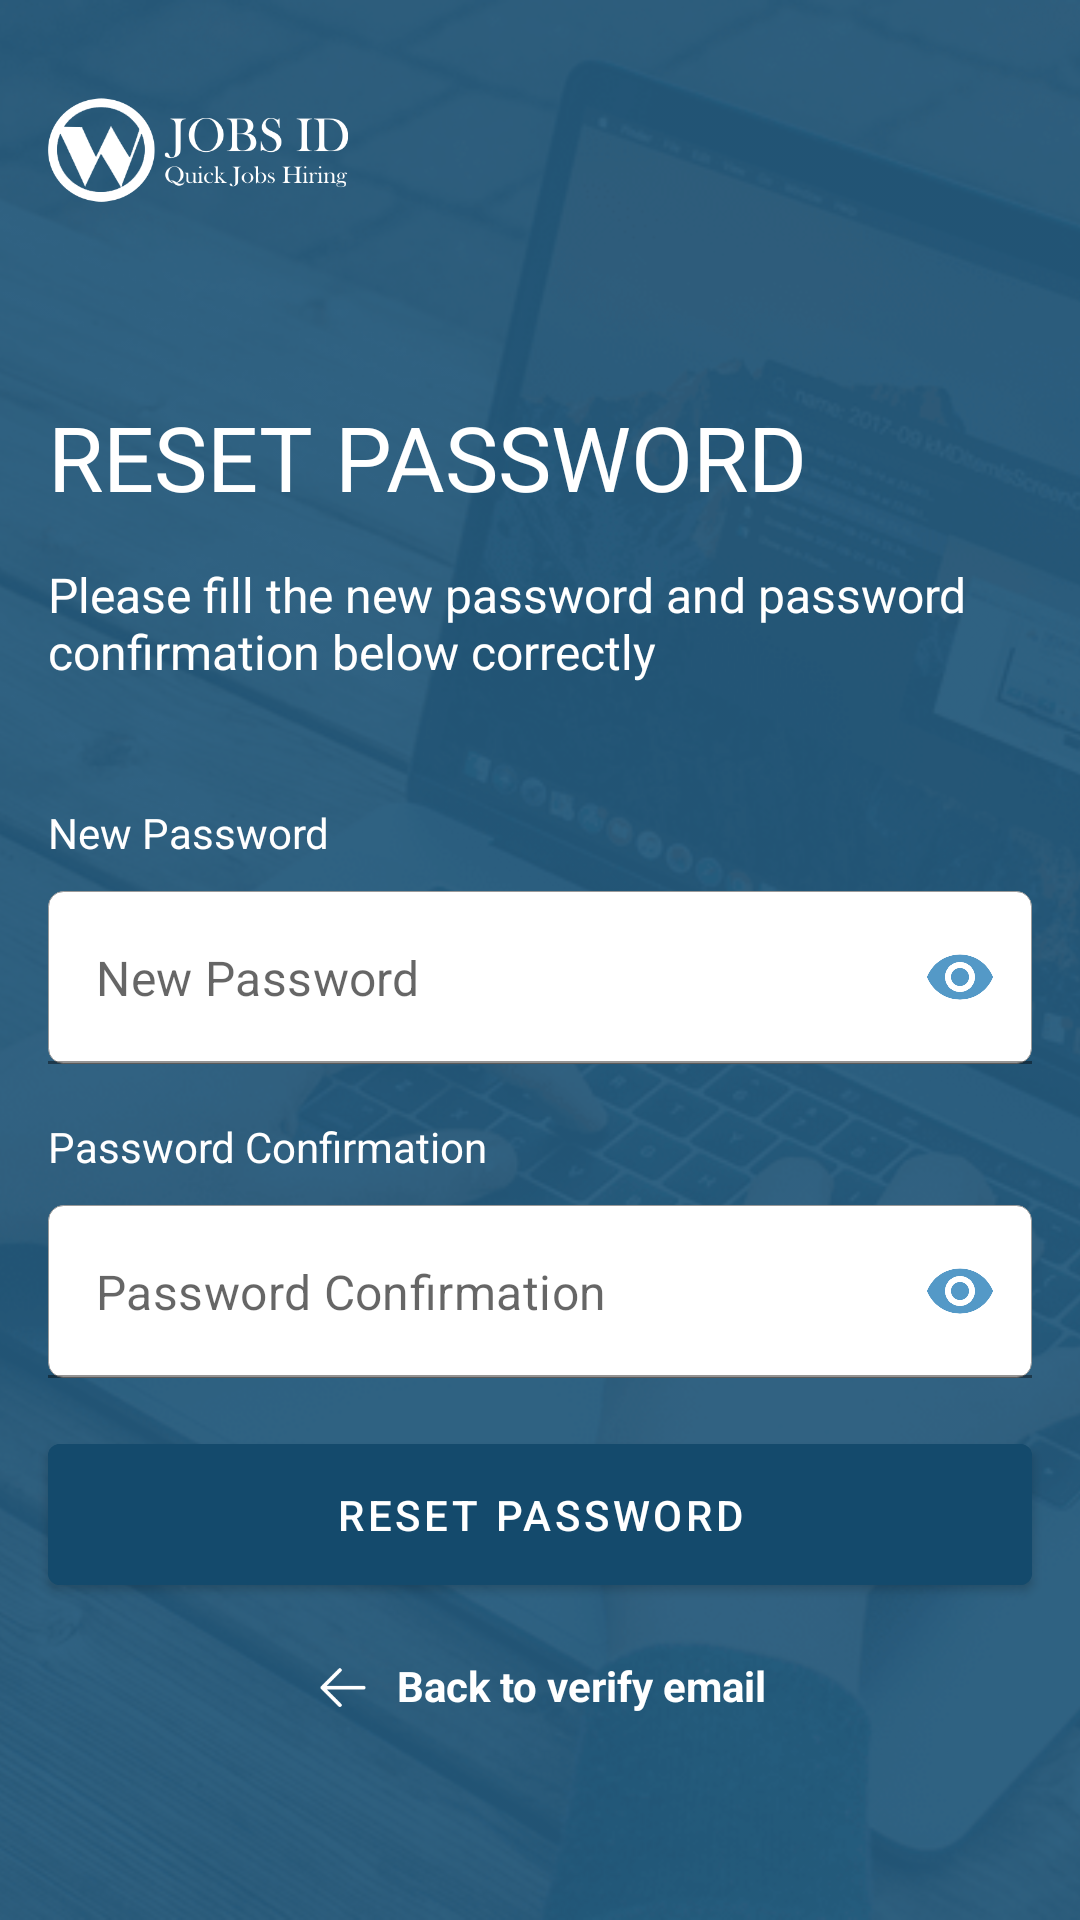

Where icons sit on this 1080px×1920px app screen, as (x1, y1, x2, y2):
arrow left: (320, 1668, 366, 1707)
